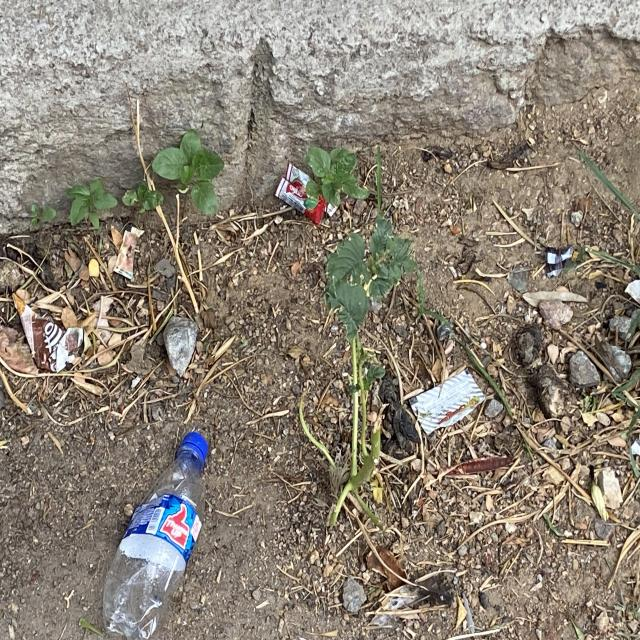plastic: (102, 433, 208, 640)
wrapper: (12, 294, 83, 372), (410, 369, 485, 435), (275, 163, 328, 224)
